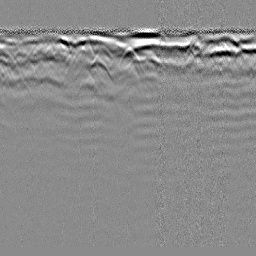cavity: (117, 44, 143, 70)
